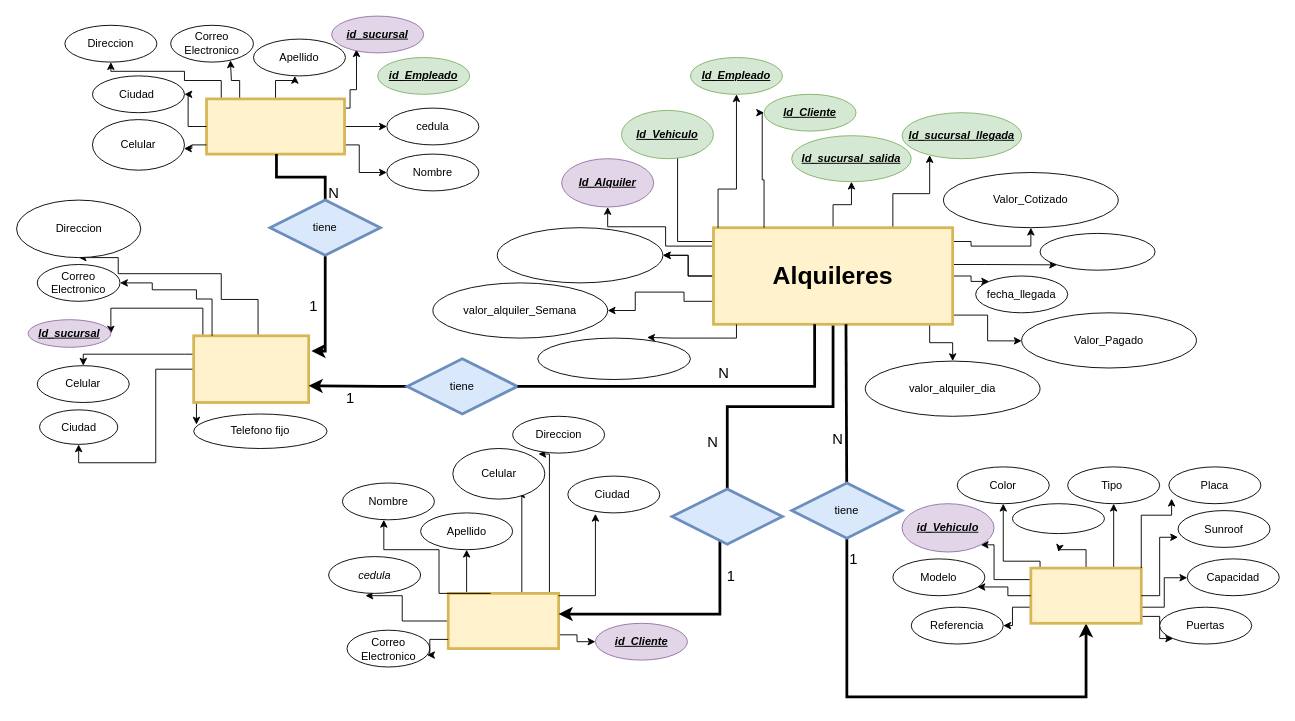
Image size: 1295x721. Some labels were removed from this diagram. Each missing label, with the centre of its shape:
Clientes: [503,621]
Empleados: [275,126]
fecha_esperada_llegada: [613,358]
fecha_salida: [1097,251]
Motor: [1058,518]
Porcentaje_Descuento: [579,255]
realiza: [726,516]
Sucursales: [251,368]
Vehiculos: [1085,595]
